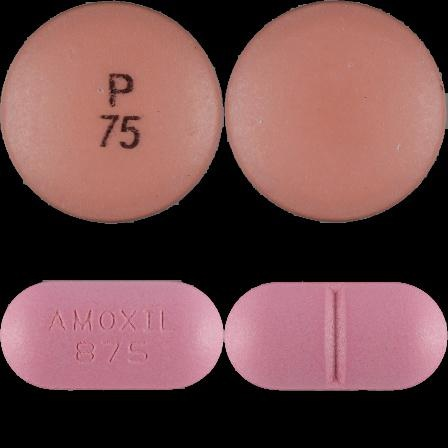63187-012: (0, 0, 224, 224)
